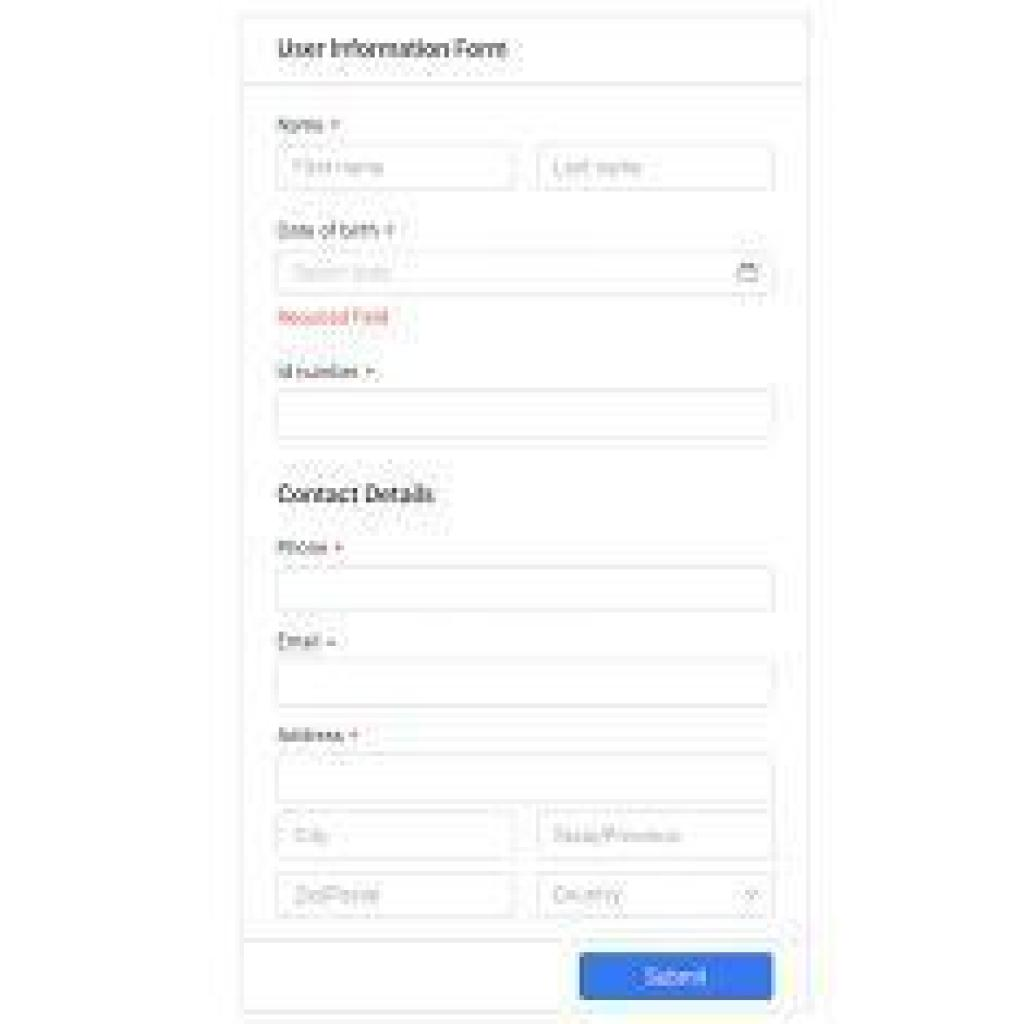button: (580, 952, 776, 1000)
dropdown: (532, 871, 780, 923)
input: (270, 746, 780, 804), (275, 383, 780, 440), (274, 244, 776, 301), (275, 560, 780, 612), (274, 656, 776, 708), (270, 866, 519, 924), (274, 139, 523, 191), (532, 139, 780, 191), (536, 809, 780, 861), (274, 809, 518, 861)
label: (274, 34, 510, 62), (275, 484, 440, 508), (274, 216, 396, 240), (270, 359, 379, 383), (274, 531, 340, 560), (266, 115, 340, 134), (270, 632, 340, 650)
